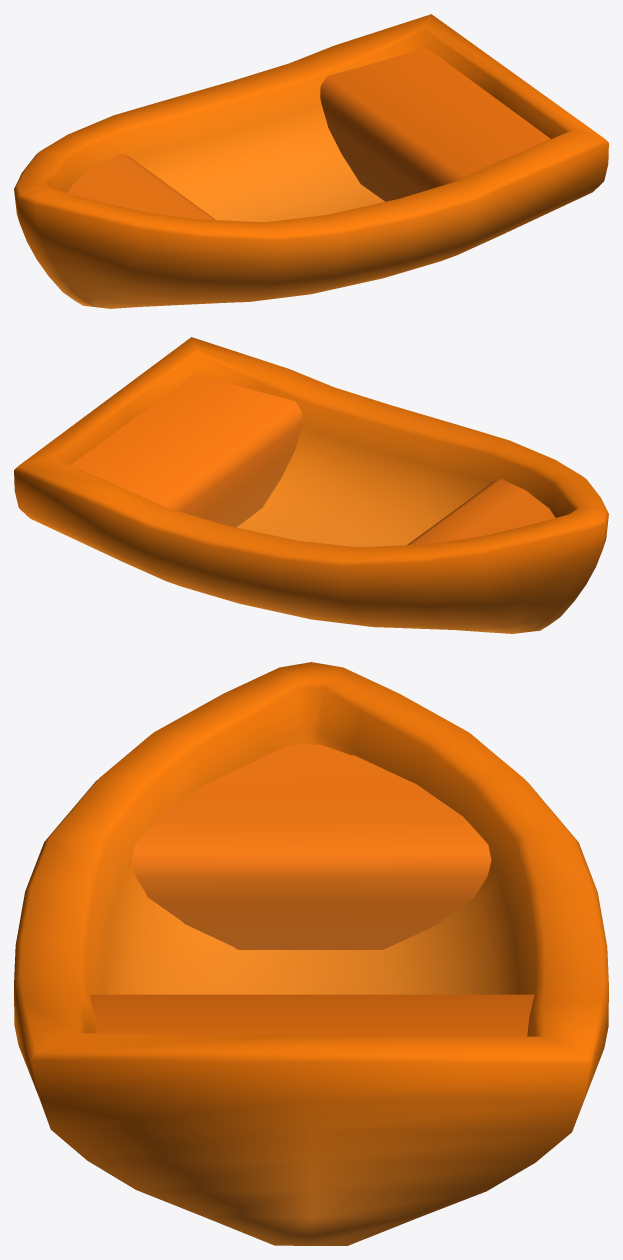
Rendered from Prop_Wooden_Boat_01.fbx.
3 views of the same model, one above another, from view 1: azimuth 30°, elevation 25°; view 2: azimuth 150°, elevation 25°; view 3: azimuth 270°, elevation 25° (orthographic). The views are drawn at different scales.
Visible parts, largest first — view 1: Prop_Wooden_Boat_01; view 2: Prop_Wooden_Boat_01; view 3: Prop_Wooden_Boat_01.
Boxes of the visible parts, box(x1,y1,x2,y2) form: Prop_Wooden_Boat_01: box(14, 14, 608, 308); Prop_Wooden_Boat_01: box(14, 337, 608, 633); Prop_Wooden_Boat_01: box(14, 662, 608, 1245).
Size of the model in its own units: 198 by 55.67 by 127.
